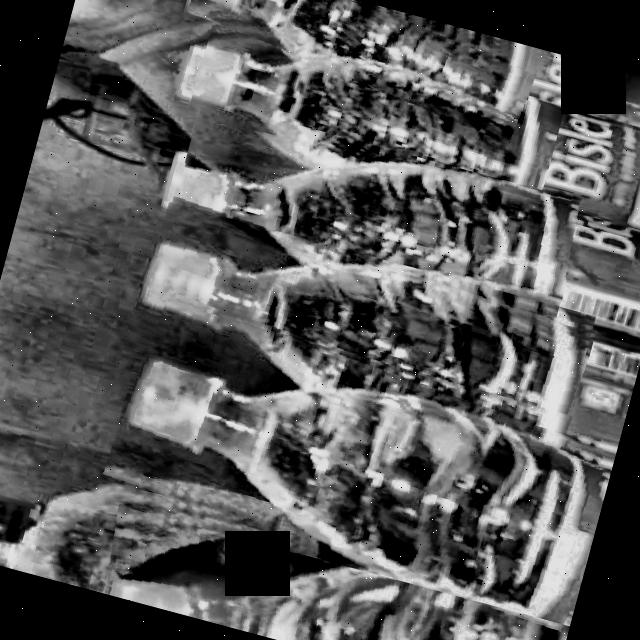bottle: (98, 296, 624, 625), (123, 334, 602, 618), (123, 200, 598, 468), (164, 98, 587, 342), (97, 470, 579, 640), (186, 13, 564, 215), (180, 0, 541, 131)
